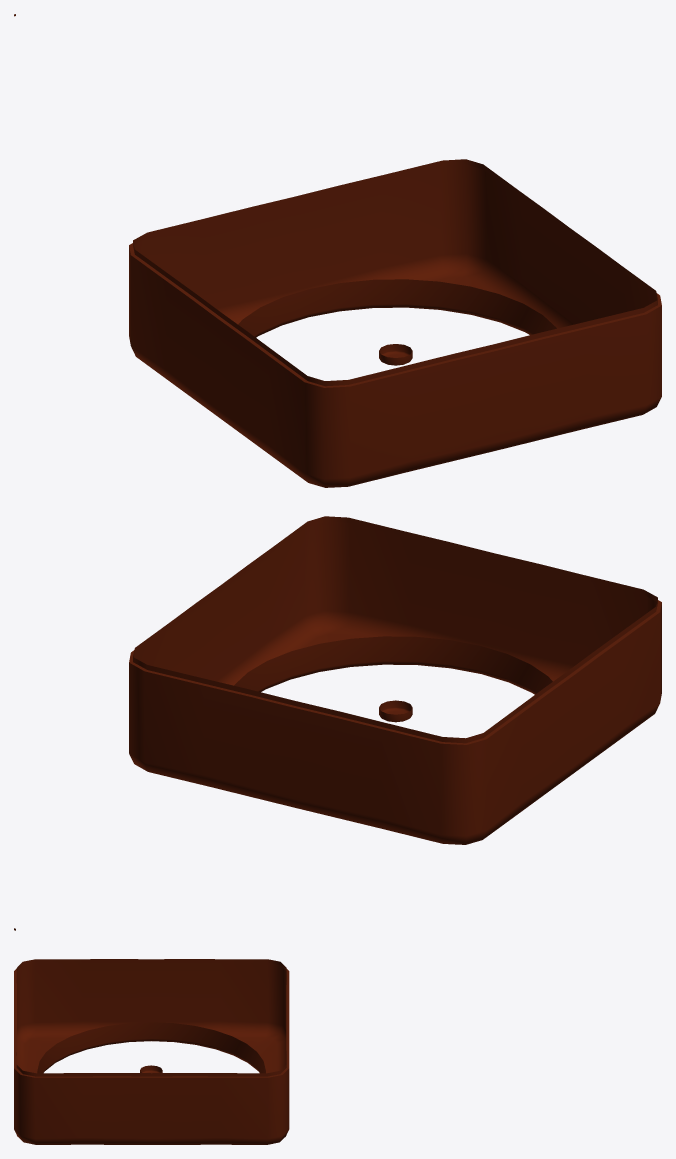
Rendered from AlarmClock_8_AlarmClock_8_0_GeomSubset_0.obj.
3 views of the same model, one above another, from view 1: azimuth 30°, elevation 25°; view 2: azimuth 150°, elevation 25°; view 3: azimuth 270°, elevation 25° (orthographic). The views are drawn at different scales.
Parts seen in each view (by area): view 1: AlarmClock_8_AlarmClock_8_0_GeomSubset_0; view 2: AlarmClock_8_AlarmClock_8_0_GeomSubset_0; view 3: AlarmClock_8_AlarmClock_8_0_GeomSubset_0.
Part boxes in pixels (x1,y1,x2,y2): AlarmClock_8_AlarmClock_8_0_GeomSubset_0: [14, 14, 661, 487]; AlarmClock_8_AlarmClock_8_0_GeomSubset_0: [14, 516, 661, 930]; AlarmClock_8_AlarmClock_8_0_GeomSubset_0: [14, 959, 289, 1144].
Bounding box in the file's own units: 0.1847 × 0.0558 × 0.4347.
